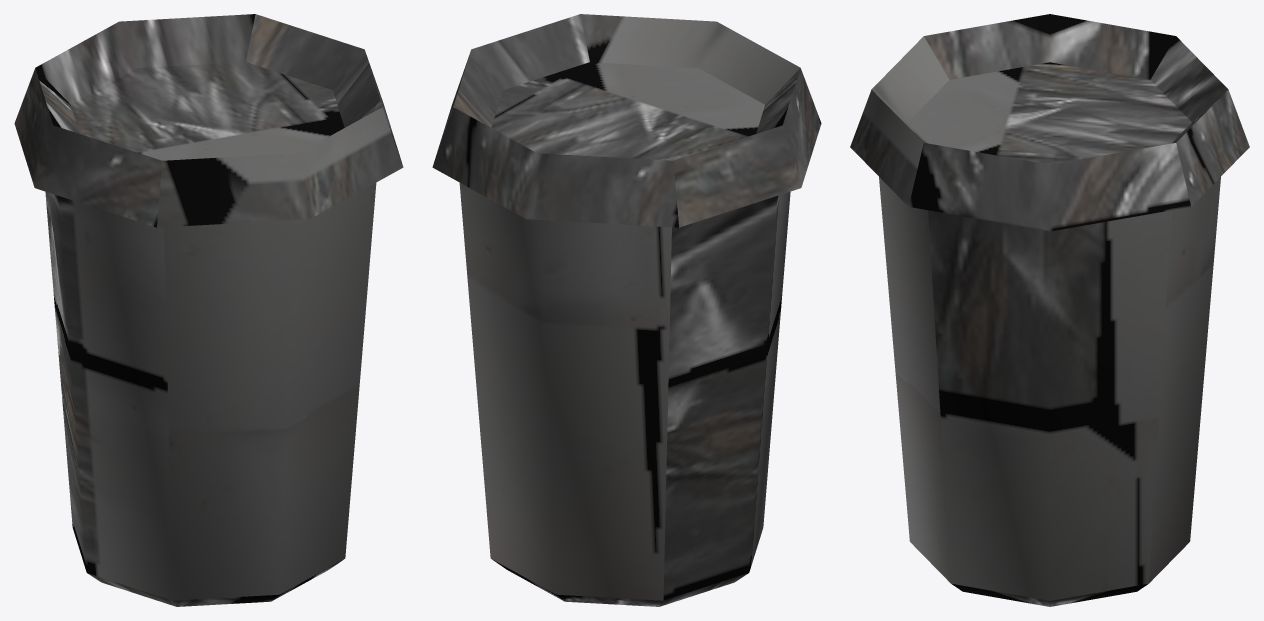
The model's file is TrashCan.fbx.
3 views of the same model, side by side, from view 1: azimuth 30°, elevation 25°; view 2: azimuth 150°, elevation 25°; view 3: azimuth 270°, elevation 25° (orthographic).
Parts seen in each view (by area): view 1: trash_can.001; view 2: trash_can.001; view 3: trash_can.001.
Part boxes in pixels (left/top/right/bottom): trash_can.001: left=14, top=14, right=403, bottom=606; trash_can.001: left=432, top=14, right=821, bottom=606; trash_can.001: left=850, top=14, right=1249, bottom=606.
Bounding box in the file's own units: 76.07 × 97.72 × 76.07.
